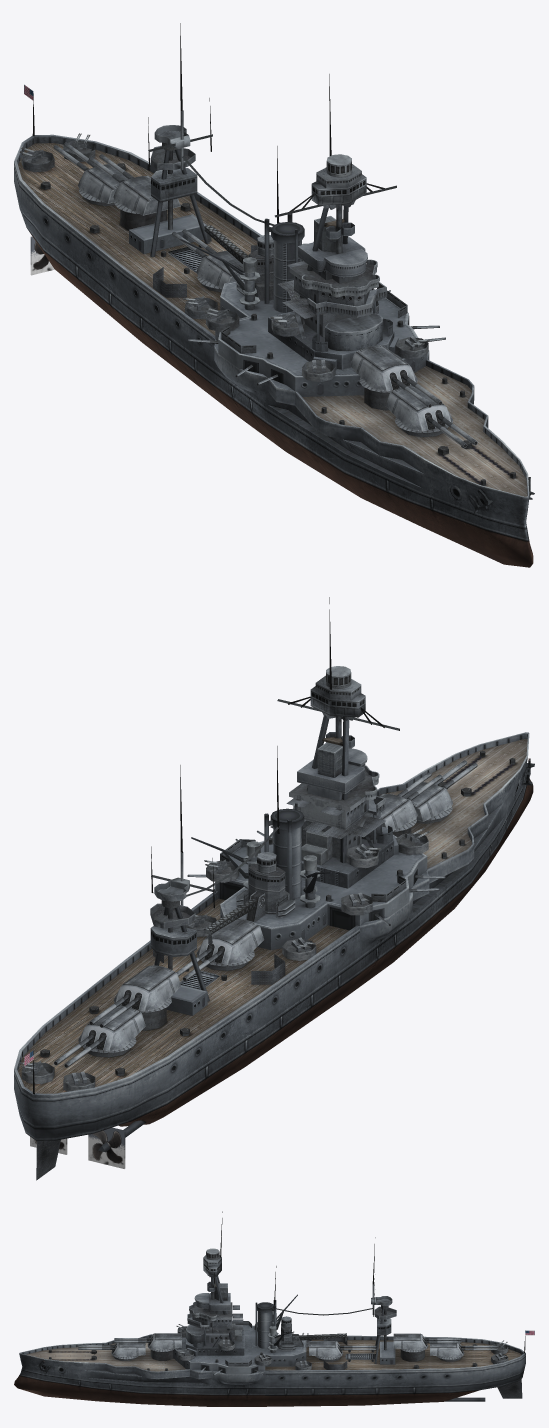
File: USA_sch_texas.FBX
3 views of the same model, one above another, from view 1: azimuth 30°, elevation 25°; view 2: azimuth 150°, elevation 25°; view 3: azimuth 270°, elevation 25° (orthographic). The views are drawn at different scales.
Visible parts, largest first — view 1: USA_sch_texas, USA_sch_texas_barbette_02, USA_sch_texas_barbette_01, USA_sch_texas_barbette_04, USA_sch_texas_barbette_05, USA_sch_texas_barbette_03; view 2: USA_sch_texas, USA_sch_texas_barbette_04, USA_sch_texas_barbette_03, USA_sch_texas_barbette_05, USA_sch_texas_barbette_01, USA_sch_texas_barbette_02; view 3: USA_sch_texas, USA_sch_texas_barbette_04, USA_sch_texas_barbette_02, USA_sch_texas_barbette_03, USA_sch_texas_barbette_01, USA_sch_texas_barbette_05.
Part boxes in pixels (x1,y1,x2,y2): USA_sch_texas: (14, 23, 534, 567); USA_sch_texas_barbette_02: (350, 345, 417, 391); USA_sch_texas_barbette_01: (386, 385, 453, 431); USA_sch_texas_barbette_04: (113, 175, 180, 215); USA_sch_texas_barbette_05: (78, 164, 128, 203); USA_sch_texas_barbette_03: (196, 250, 242, 288); USA_sch_texas: (14, 597, 534, 1180); USA_sch_texas_barbette_04: (113, 965, 180, 1011); USA_sch_texas_barbette_03: (197, 918, 263, 964); USA_sch_texas_barbette_05: (78, 1005, 145, 1051); USA_sch_texas_barbette_01: (402, 782, 452, 821); USA_sch_texas_barbette_02: (378, 793, 417, 830); USA_sch_texas: (14, 1211, 534, 1406); USA_sch_texas_barbette_04: (393, 1333, 426, 1350); USA_sch_texas_barbette_02: (148, 1333, 181, 1349); USA_sch_texas_barbette_03: (309, 1341, 341, 1357); USA_sch_texas_barbette_01: (112, 1340, 145, 1357); USA_sch_texas_barbette_05: (430, 1343, 463, 1357).
Size of the model in its own units: 40.91 by 72.93 by 176.
Materials: 2 (2 with a texture image).
